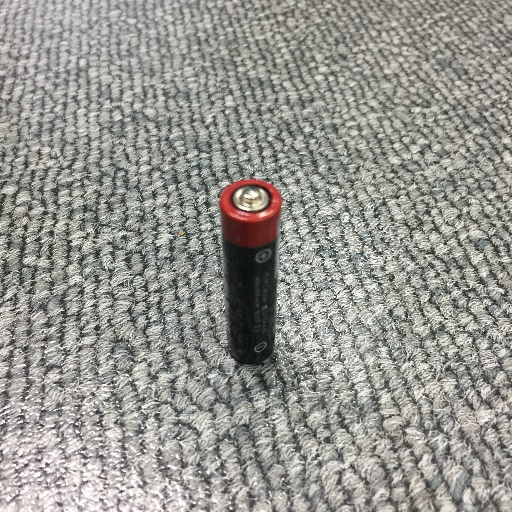Battery_0: (211, 173, 288, 371)
